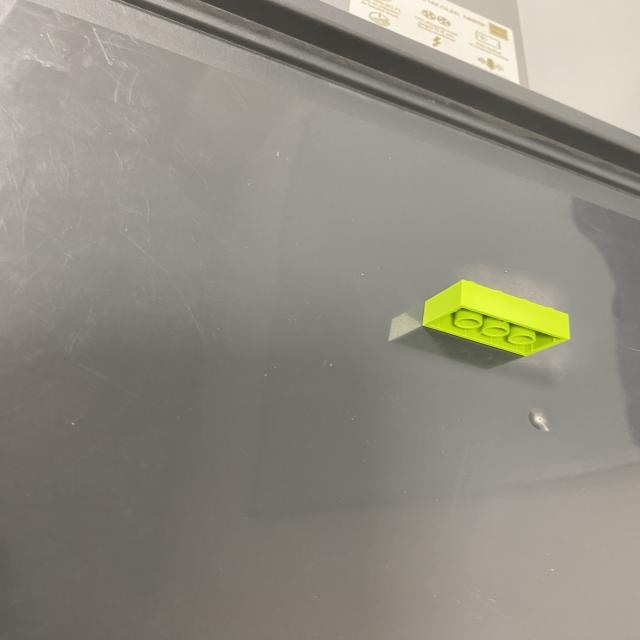C4x2x1: (464, 281, 574, 338), (425, 282, 465, 324)
